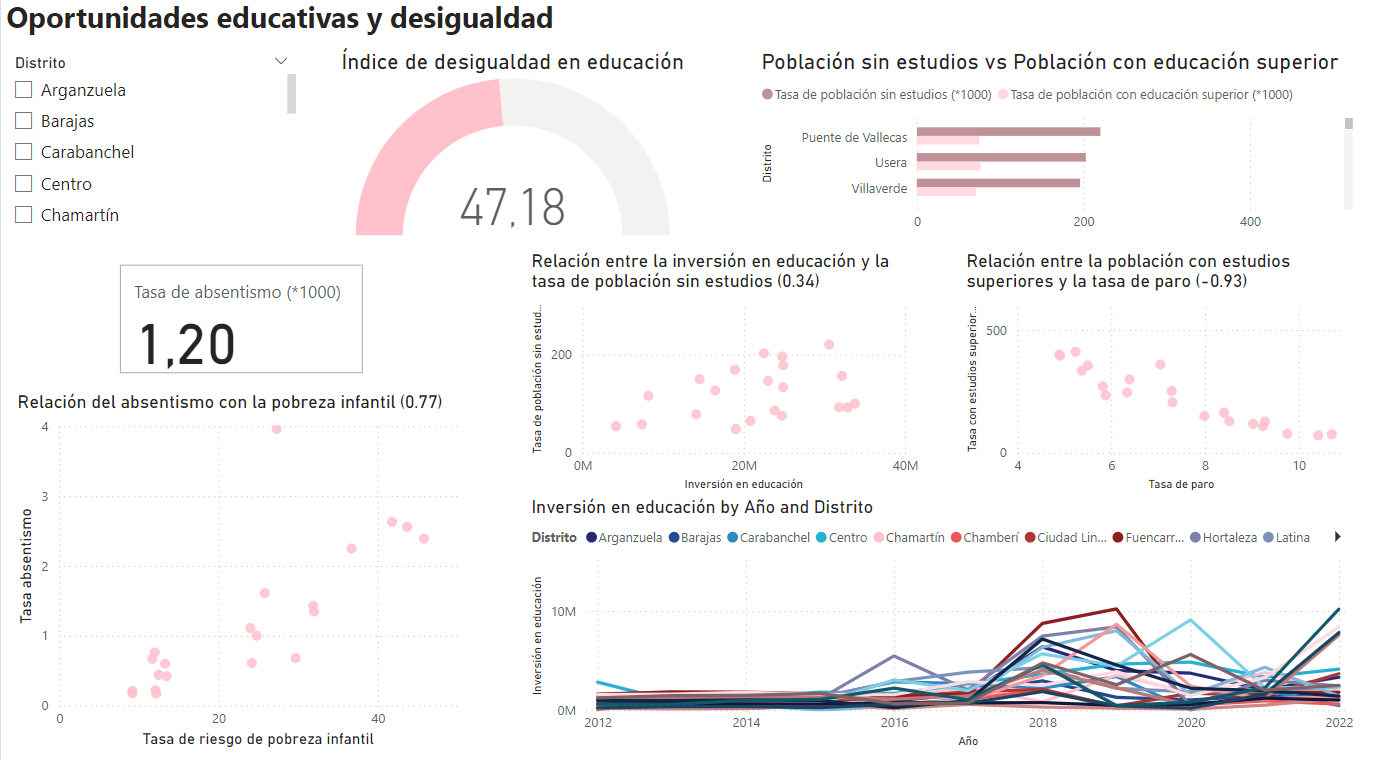

The page's visual inventory and layout, read from the dashboard file:
{"tool":"powerbi","page":{"name":"Oportunidades educativas","canvas":[1280,720],"ordinal":4},"visuals":[{"type":"slicer","fields":{"Values":["indices.distrito"]},"box":[0,51.8,279.5,179.2],"z":0},{"type":"gauge","title":"Índice de desigualdad en educación","fields":{"MinValue":["Tabla_Indices.MinimoPorcentaje"],"MaxValue":["Tabla_Indices.TotalPorcentaje"],"Y":["Avg(indices.indice_desigualdad_educacion)"]},"box":[311.1,51.8,329.1,179.2],"z":1000},{"type":"clusteredBarChart","title":"Población sin estudios vs Población con educación superior","fields":{"Y":["Avg(educacion.tasa_sin_estudios)","Avg(educacion.tasa_poblacion_educacion_superior)"],"Category":["educacion.distrito"]},"box":[702.2,51.8,560.2,179.2],"z":2000},{"type":"scatterChart","title":"Relación del absentismo con la pobreza infantil (0.77)","fields":{"Y":["educacion.tasa_absentismo"],"X":["social.tasa_riesgo_pobreza_infantil"]},"box":[10.4,370.6,426.3,336.9],"z":3000},{"type":"cardVisual","fields":{"Data":["Avg(educacion.tasa_absentismo)"]},"box":[105.9,249.1,236.7,111.6],"z":4000},{"type":"scatterChart","title":"Relación entre la inversión en educación y la tasa de población sin estudios (0.34)","fields":{"X":["Tabla_Indices.Inversión en educación"],"Y":["educacion.tasa_sin_estudios"]},"box":[488.4,239.5,369.8,229.1],"z":5000},{"type":"scatterChart","title":"Relación entre la población con estudios superiores y la tasa de paro (-0.93)","fields":{"Y":["Sum(educacion.tasa_poblacion_educacion_superior)"],"X":["economia.tasa_paro"]},"box":[893,239.5,369.8,229.1],"z":6000},{"type":"lineChart","fields":{"Category":["presupuestos.año"],"Y":["Tabla_Indices.Inversión en educación"],"Series":["educacion.distrito"]},"box":[488.4,468.6,774.4,239.5],"z":7000},{"type":"textbox","box":[0,0,1280.2,52.3],"z":8000}]}

Visuals, with their boxes in screenshot pixels (x1, y1, x2, y2), scaled from the page's 1280x720 canvas onto the 1373x760 screenshot:
slicer - indices.distrito: (0, 55, 300, 244)
"Índice de desigualdad en educación" gauge: (334, 55, 687, 244)
"Población sin estudios vs Población con educación superior" clusteredBarChart: (753, 55, 1354, 244)
"Relación del absentismo con la pobreza infantil (0.77)" scatterChart: (11, 391, 468, 747)
cardVisual - Avg(educacion.tasa_absentismo): (114, 263, 367, 381)
"Relación entre la inversión en educación y la tasa de población sin estudios (0.34)" scatterChart: (524, 253, 921, 495)
"Relación entre la población con estudios superiores y la tasa de paro (-0.93)" scatterChart: (958, 253, 1355, 495)
lineChart - presupuestos.año x Tabla_Indices.Inversión en educación: (524, 495, 1355, 747)
textbox: (0, 0, 1372, 55)
